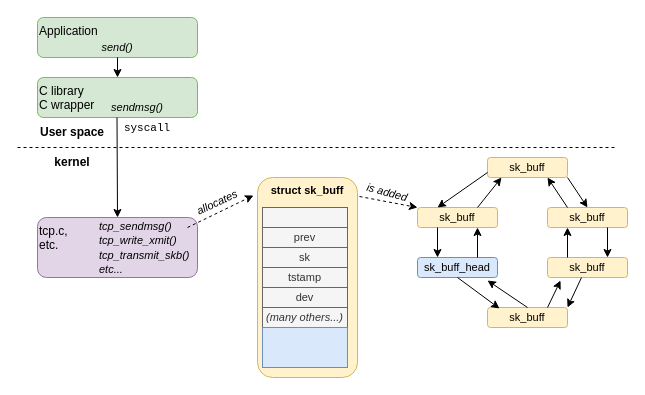
Some shapes in this 645 by 395 pixel diagram are drawn without their labels. Here are the shapes that lost their labels. From the top down, the centre of each, then its label:
point (305, 217): next
point (305, 347): head, data, tail, end
